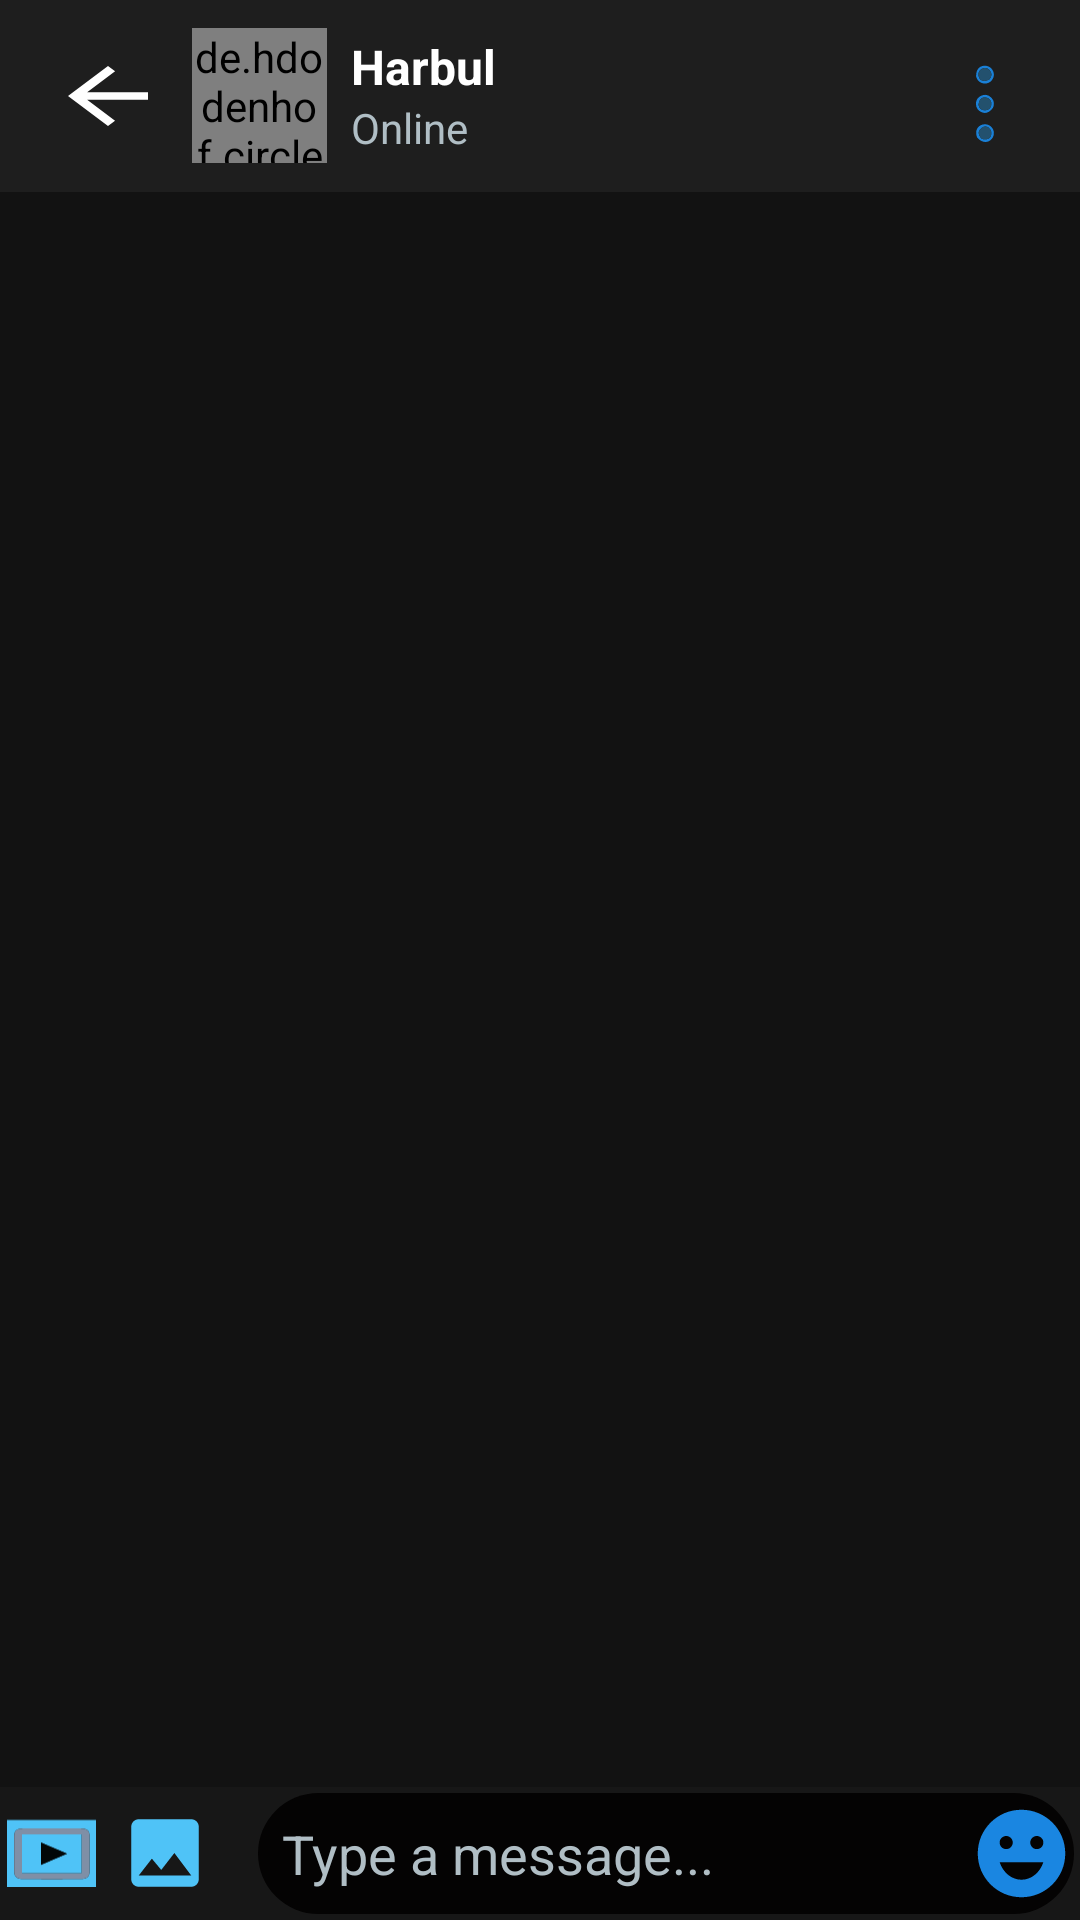

Screen size 1080x1920. Icon name, then its center in pixels as point (x, y):
Attach Image: point (165, 1853)
Attach Video: point (51, 1853)
Back: point (108, 96)
emoji emotions: point (1021, 1853)
